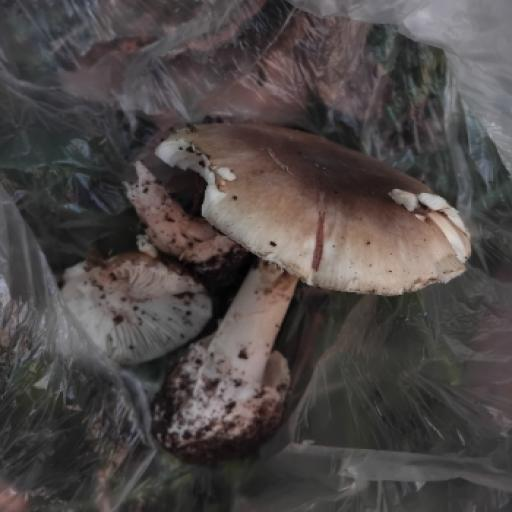mushroom: (142, 114, 479, 482)
